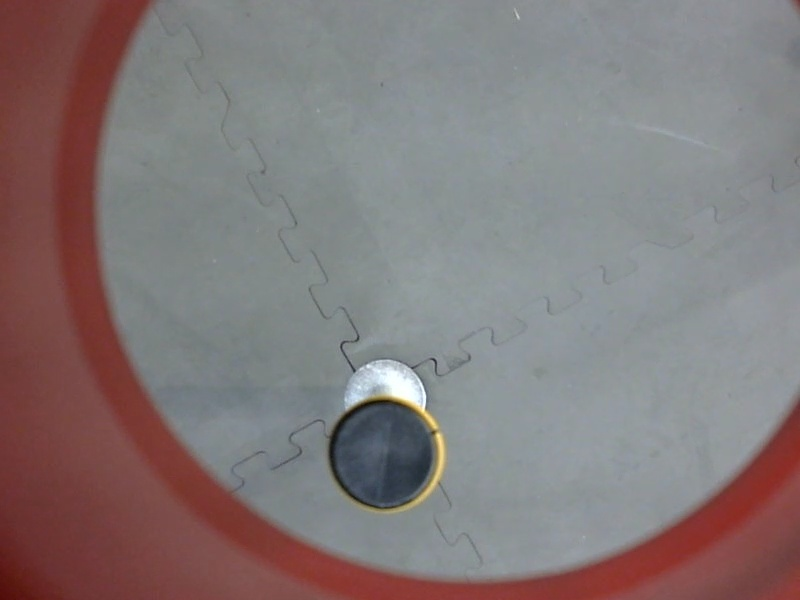tip: (320, 390, 449, 519)
